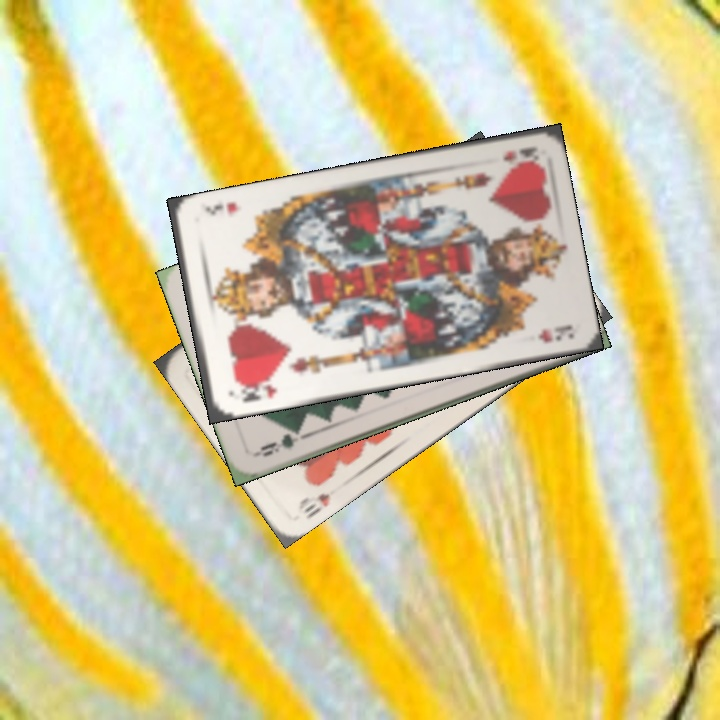G9: (250, 424, 308, 460)
H10: (294, 489, 333, 522)
HK: (236, 376, 279, 406), (499, 143, 538, 168)
